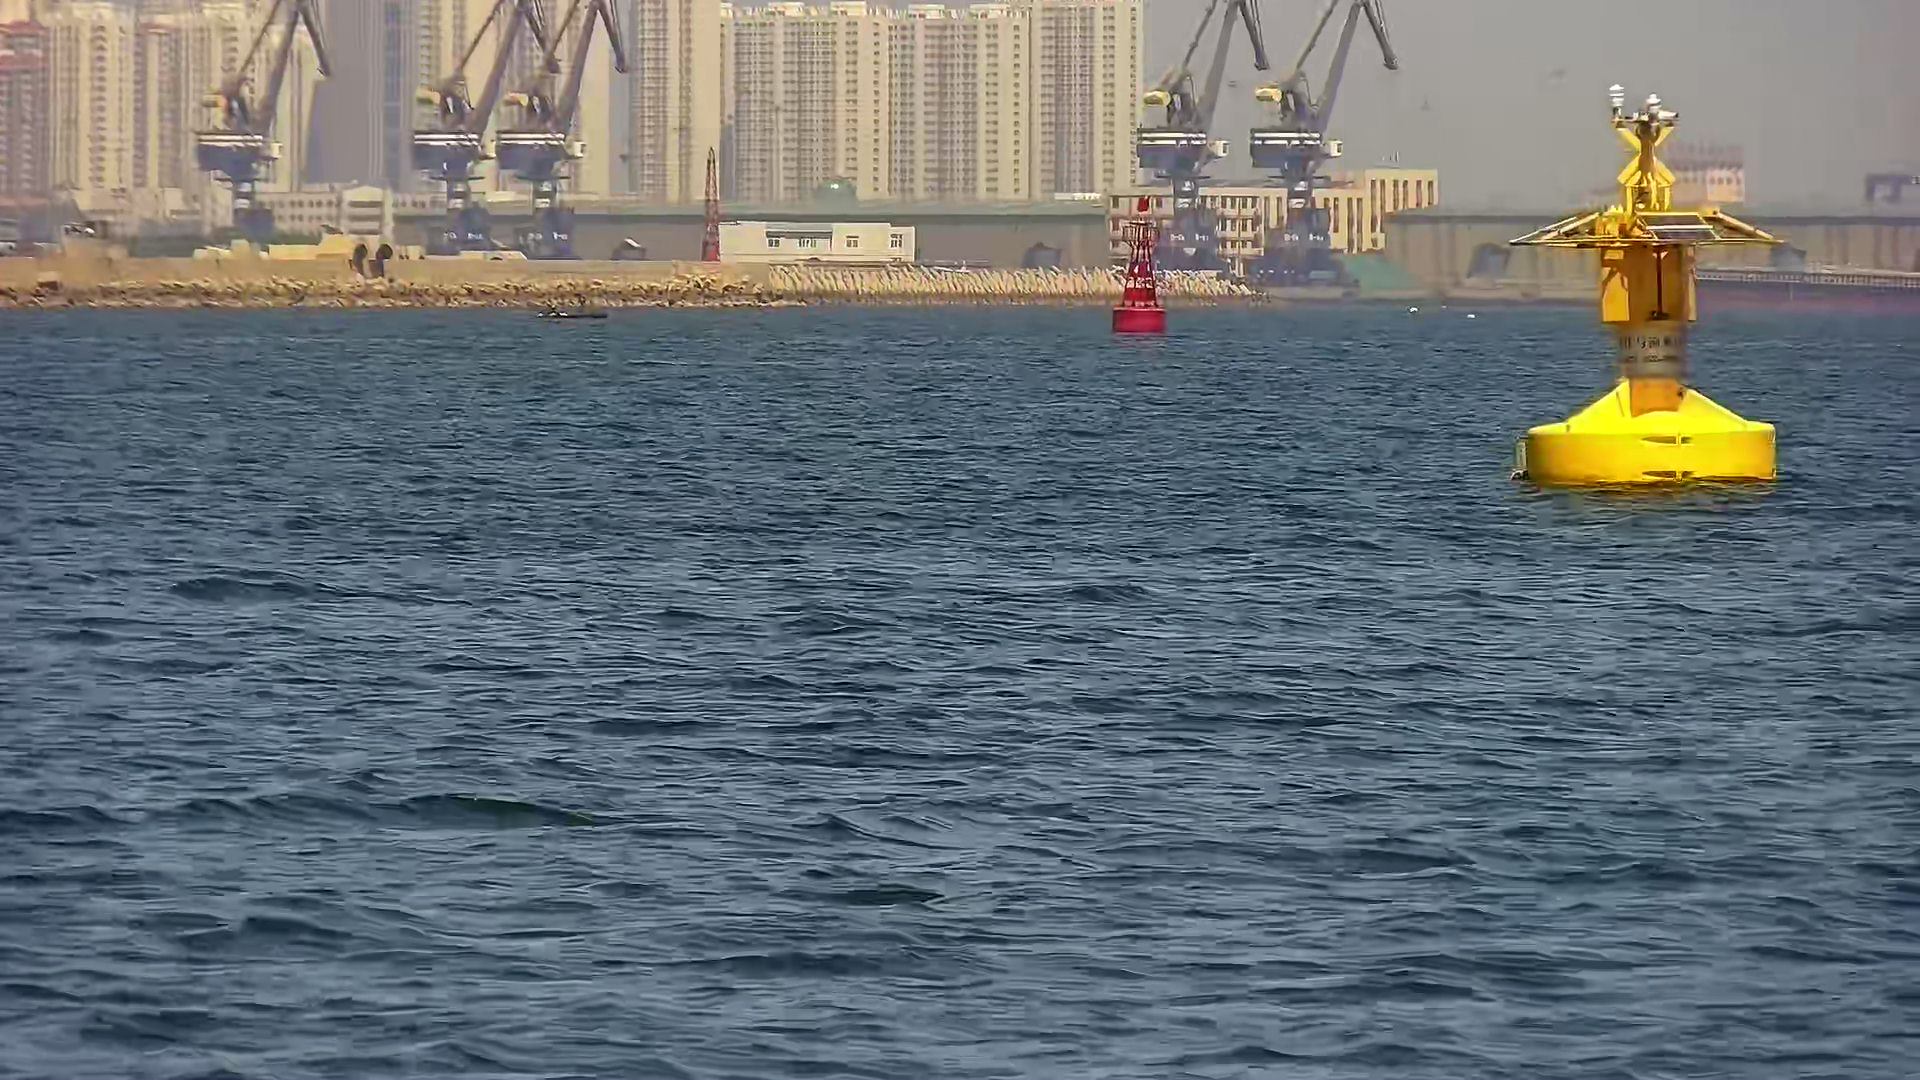buoy: (1513, 83, 1787, 491), (1112, 222, 1174, 336)
